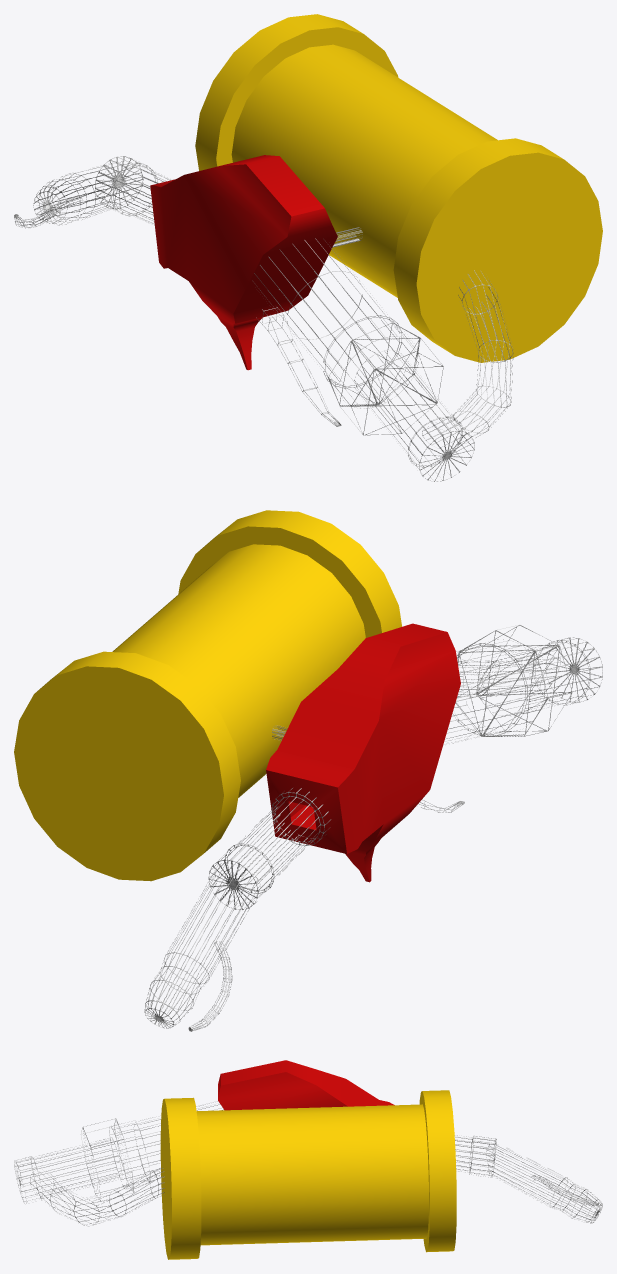
The model's file is Flaminatorx1000_FIXED.fbx.
3 renders of one model, top to bottom at view 1: azimuth 30°, elevation 25°; view 2: azimuth 150°, elevation 25°; view 3: azimuth 270°, elevation 25°, orthographic. The views are drawn at different scales.
Parts seen in each view (by area): view 1: Flamethrower; view 2: Flamethrower; view 3: Flamethrower.
Boxes of the visible parts, left/top/right/bottom form: Flamethrower: left=14, top=14, right=602, bottom=481; Flamethrower: left=14, top=510, right=602, bottom=1031; Flamethrower: left=14, top=1060, right=602, bottom=1259.
Bounding box in the file's own units: 3.49 × 2.65 × 8.
